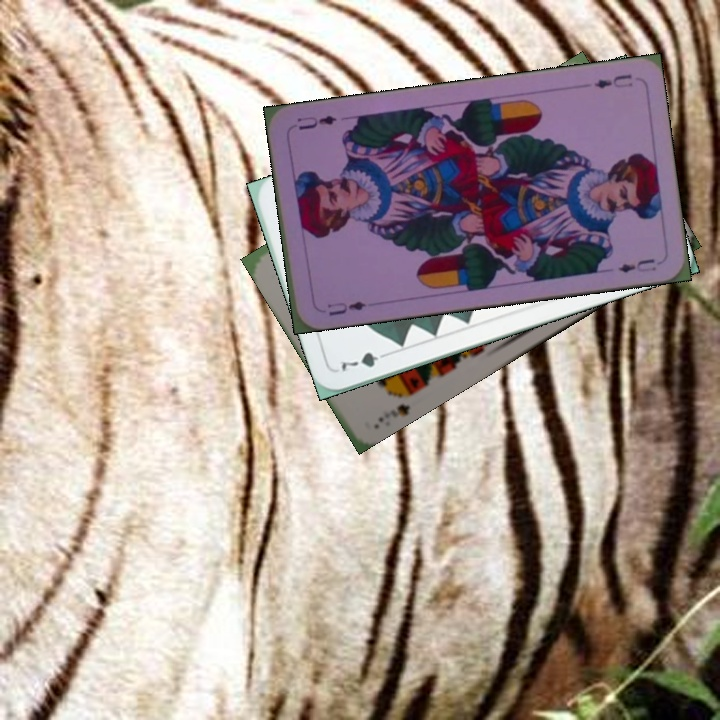EU: (324, 297, 375, 319), (590, 70, 636, 91)
G7: (336, 348, 393, 374)
S9: (373, 400, 413, 426)
